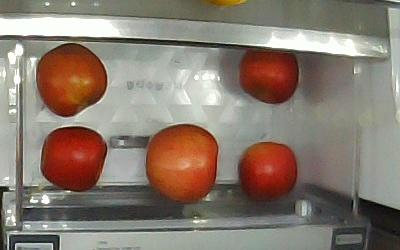apple: (145, 124, 217, 204), (37, 43, 108, 118), (41, 127, 107, 193), (238, 142, 299, 200), (240, 51, 300, 104)
